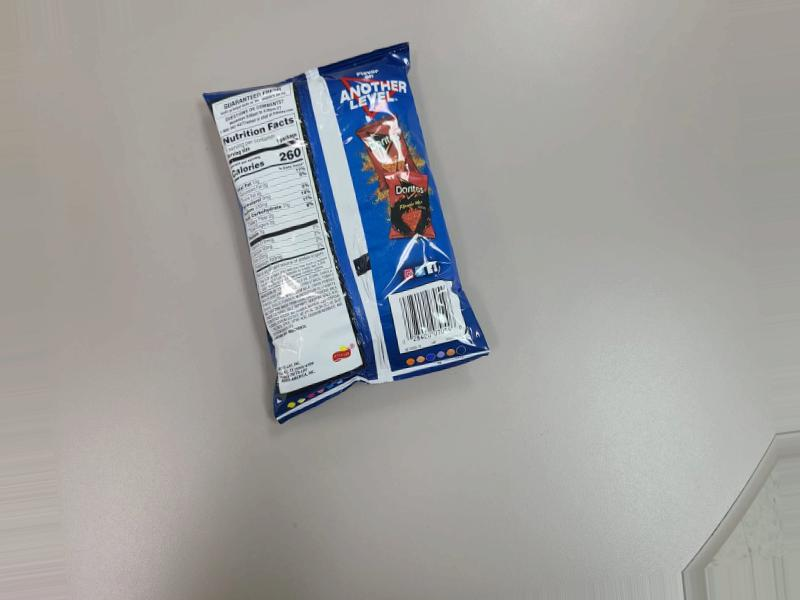doritos: (172, 23, 470, 425)
